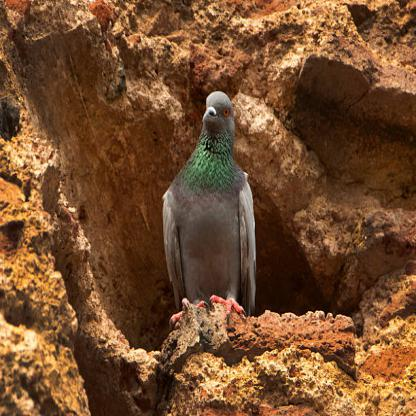Flying Rat: (158, 93, 275, 325)
